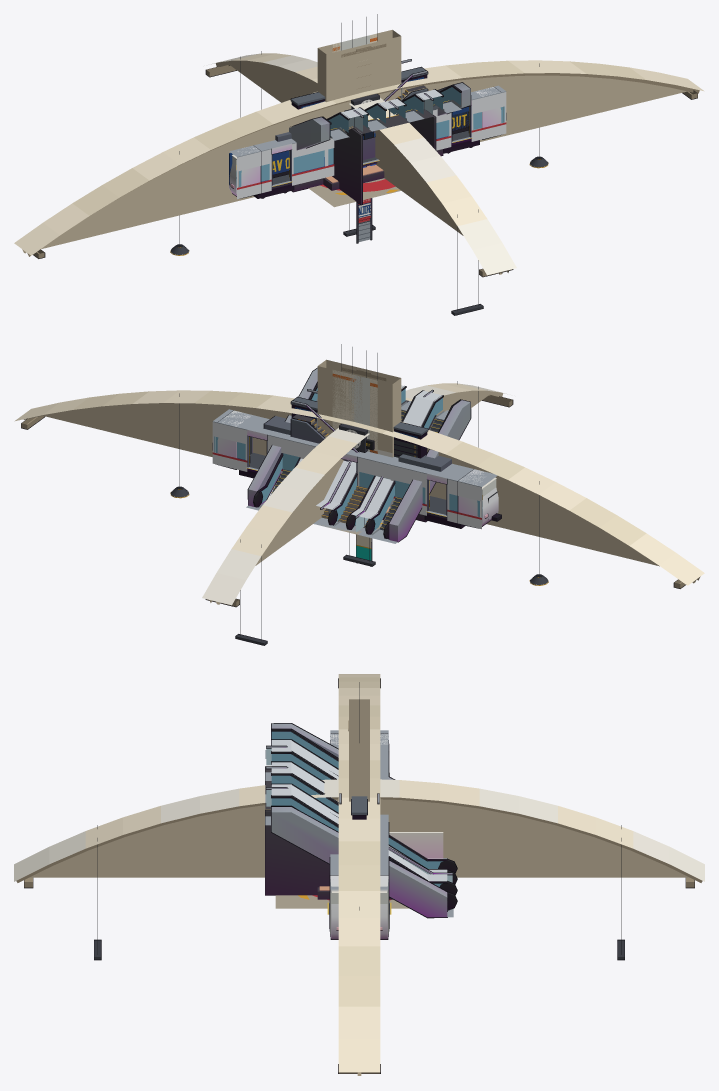
Rendered from fps-kit-metro.glb.
3 renders of one model, top to bottom at view 1: azimuth 30°, elevation 25°; view 2: azimuth 150°, elevation 25°; view 3: azimuth 270°, elevation 25°, orthographic. The views are drawn at different scales.
Visible parts, largest first — view 1: KIT_METRO_VEndN, KIT_METRO_VaultH, KIT_METRO_VaultP, KIT_METRO_CarHead, KIT_METRO_PEnd, KIT_METRO_EscBank, KIT_METRO_Stair, KIT_METRO_GateFrame, KIT_METRO_Front3, KIT_METRO_CarHead_Glow, KIT_METRO_F_Mosaic, KIT_METRO_CarTail (+5 smaller); view 2: KIT_METRO_VEndN, KIT_METRO_VaultH, KIT_METRO_EscBank, KIT_METRO_CarHead, KIT_METRO_VaultP, KIT_METRO_GateFrame, KIT_METRO_CarTail, KIT_METRO_PEnd, KIT_METRO_Front3, KIT_METRO_CarMid, KIT_METRO_Landmark_Board, KIT_METRO_Door2 (+5 smaller); view 3: KIT_METRO_PEnd, KIT_METRO_VaultH, KIT_METRO_EscBank, KIT_METRO_VaultP, KIT_METRO_Stair, KIT_METRO_CarHead, KIT_METRO_GateFrame, KIT_METRO_F_Mosaic.
Boxes of the visible parts, x1=… form: KIT_METRO_VEndN: x1=27, y1=73, x2=699, y2=256; KIT_METRO_VaultH: x1=14, y1=60, x2=704, y2=258; KIT_METRO_VaultP: x1=205, y1=53, x2=516, y2=277; KIT_METRO_CarHead: x1=229, y1=87, x2=506, y2=199; KIT_METRO_PEnd: x1=228, y1=62, x2=509, y2=272; KIT_METRO_EscBank: x1=289, y1=82, x2=471, y2=150; KIT_METRO_Stair: x1=332, y1=93, x2=436, y2=205; KIT_METRO_GateFrame: x1=317, y1=29, x2=401, y2=118; KIT_METRO_Front3: x1=332, y1=33, x2=386, y2=111; KIT_METRO_CarHead_Glow: x1=236, y1=106, x2=504, y2=187; KIT_METRO_F_Mosaic: x1=308, y1=178, x2=400, y2=207; KIT_METRO_CarTail: x1=229, y1=85, x2=505, y2=198; KIT_METRO_VEndN: x1=43, y1=403, x2=700, y2=580; KIT_METRO_VaultH: x1=14, y1=390, x2=704, y2=588; KIT_METRO_EscBank: x1=246, y1=367, x2=471, y2=543; KIT_METRO_CarHead: x1=212, y1=410, x2=498, y2=529; KIT_METRO_VaultP: x1=202, y1=383, x2=513, y2=607; KIT_METRO_GateFrame: x1=317, y1=359, x2=401, y2=457; KIT_METRO_CarTail: x1=217, y1=410, x2=501, y2=528; KIT_METRO_PEnd: x1=209, y1=392, x2=490, y2=602; KIT_METRO_Front3: x1=332, y1=364, x2=386, y2=453; KIT_METRO_CarMid: x1=213, y1=409, x2=496, y2=486; KIT_METRO_Landmark_Board: x1=276, y1=396, x2=428, y2=522; KIT_METRO_Door2: x1=349, y1=365, x2=378, y2=451; KIT_METRO_PEnd: x1=16, y1=797, x2=702, y2=882; KIT_METRO_VaultH: x1=338, y1=674, x2=380, y2=1075; KIT_METRO_EscBank: x1=265, y1=723, x2=457, y2=918; KIT_METRO_VaultP: x1=14, y1=779, x2=704, y2=888; KIT_METRO_Stair: x1=265, y1=745, x2=452, y2=895; KIT_METRO_CarHead: x1=327, y1=730, x2=391, y2=939; KIT_METRO_GateFrame: x1=349, y1=699, x2=369, y2=801; KIT_METRO_F_Mosaic: x1=275, y1=895, x2=409, y2=908.
Size of the model in its own units: 45 by 14.02 by 33.
Materials: 1 (1 with a texture image).
